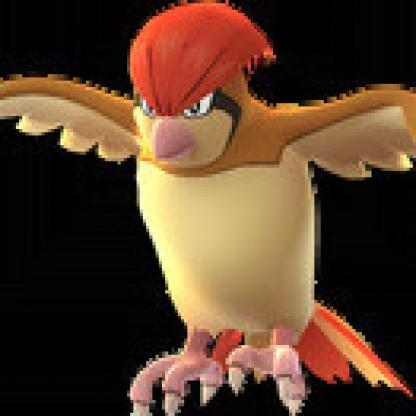Pidgeotto: (1, 1, 414, 414)
